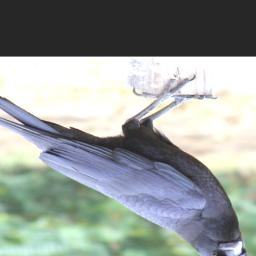Crow: (0, 71, 254, 256)
